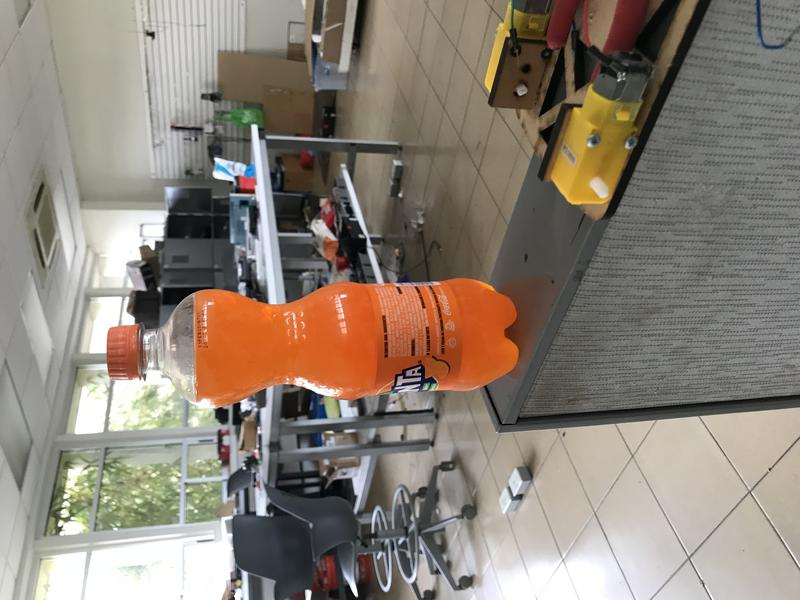fanta: (106, 278, 520, 410)
